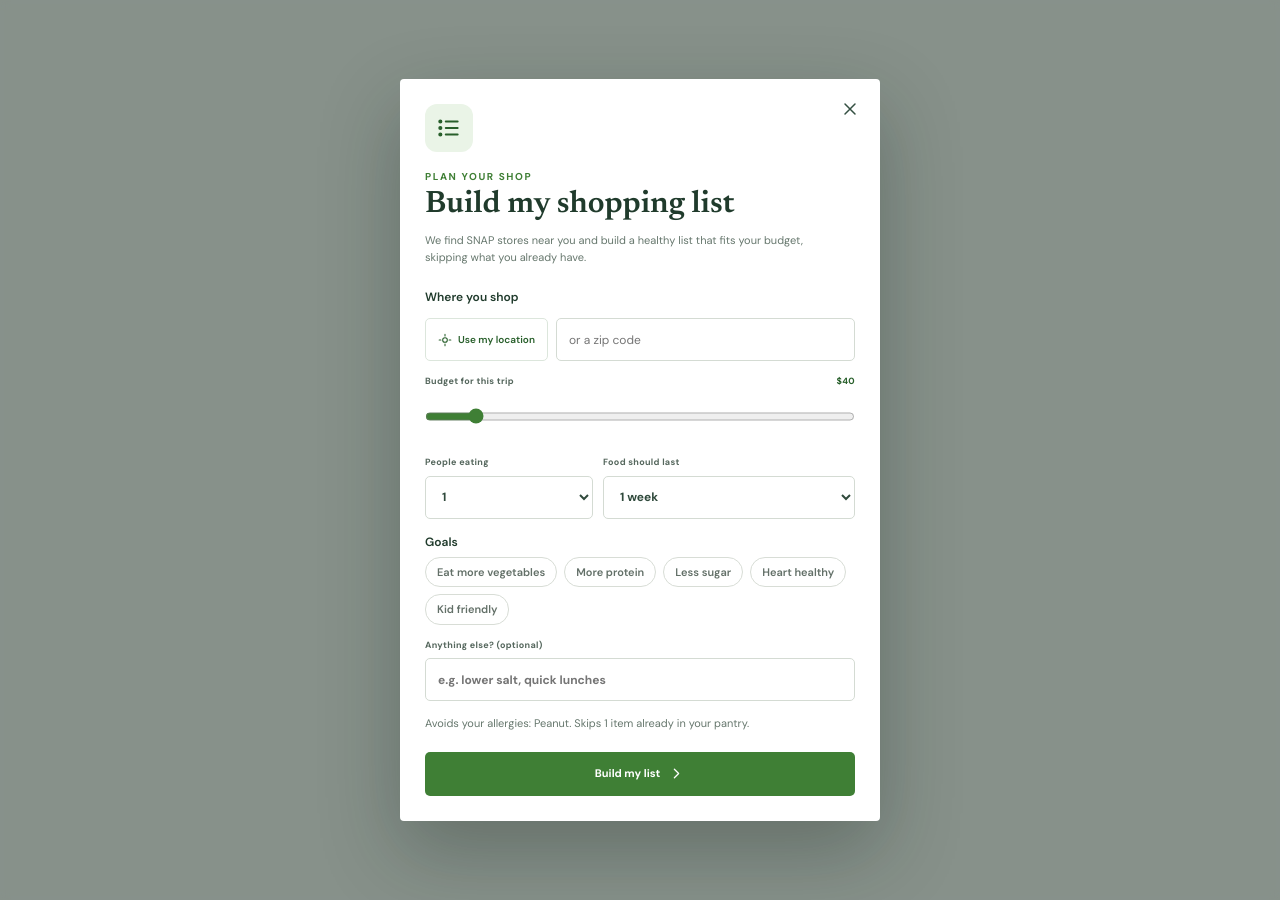
asks for a location instead of calling the API when there is none
Click the button "Build my list" at (640, 774), box [425,752,855,796]
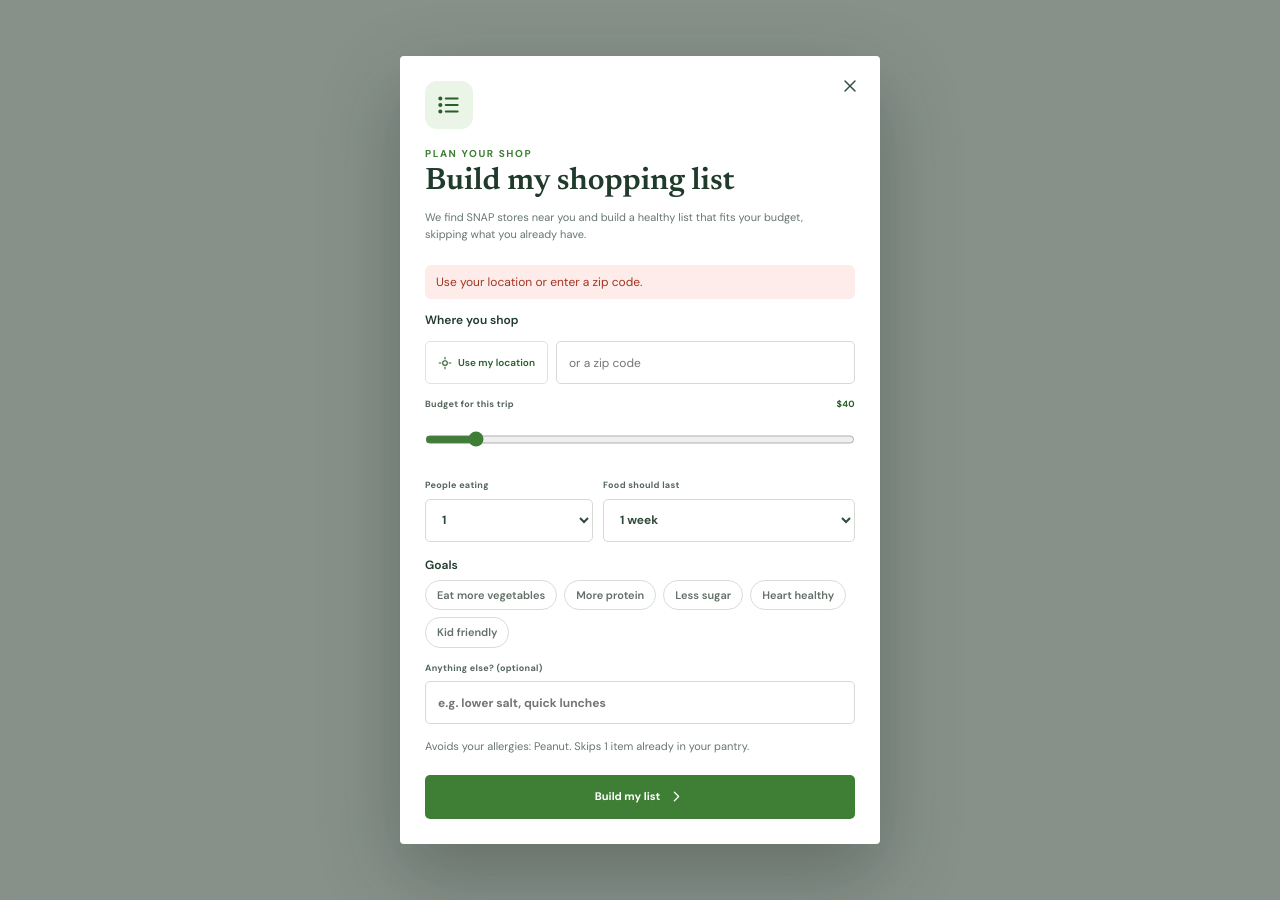
Result: the text "Use your location or enter a zip code." is shown at [425,265,855,299]
